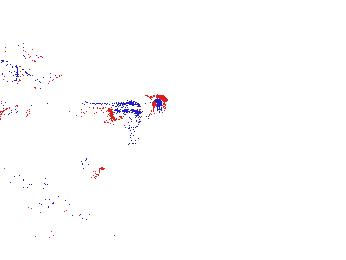glassfish: (22, 94, 141, 128)
red belly glassfish: (138, 93, 167, 121)
